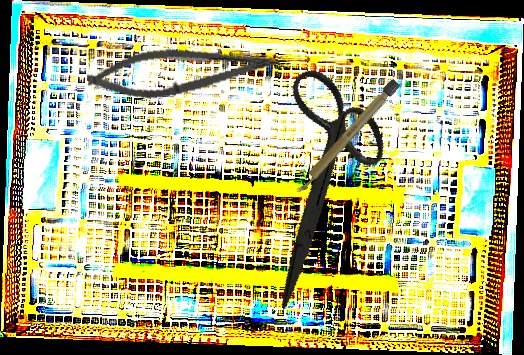Iris Scissors: (215, 55, 423, 310)
Micro Scissor: (84, 30, 283, 110)
Scalpel Handle: (292, 77, 401, 197)
